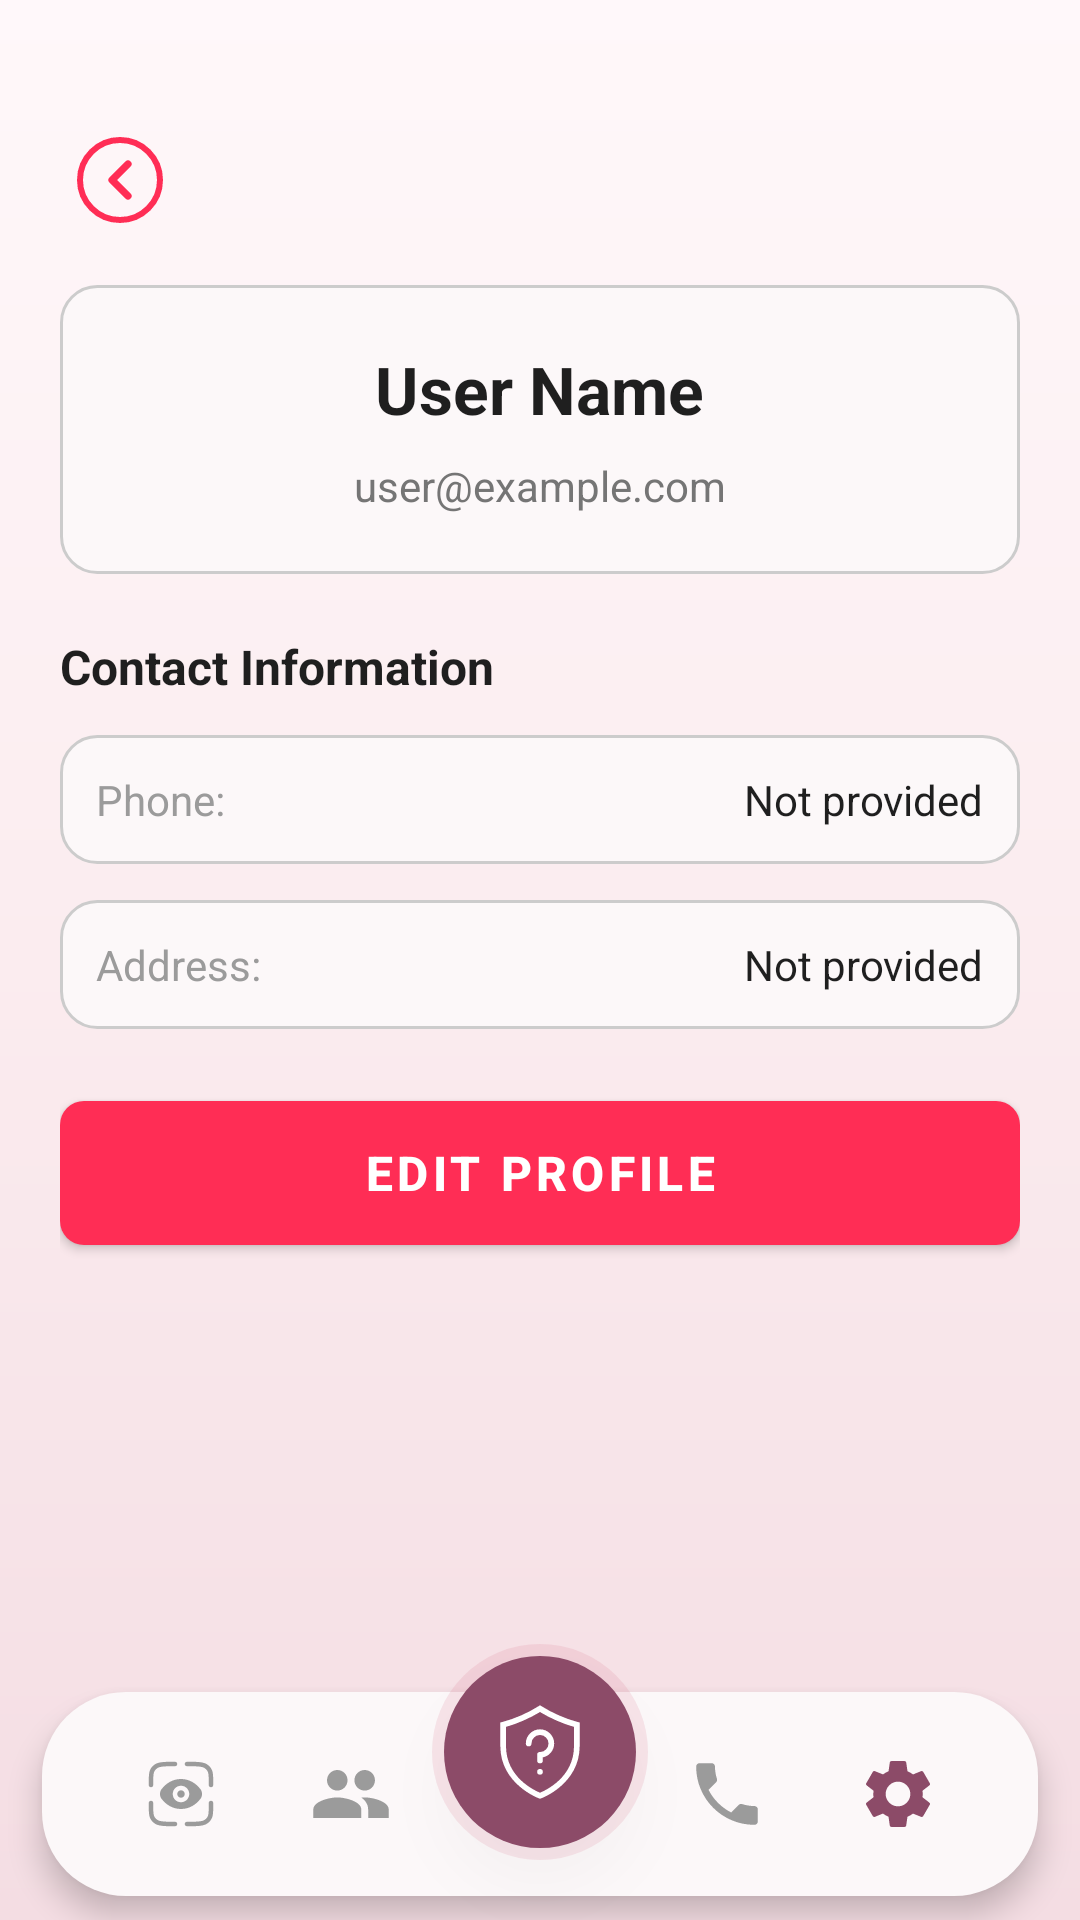

Where icons sit on this 1080x1920 app screen, as (x1, y1, x2, y2):
Back: (77, 137, 163, 223)
Call: (696, 1763, 758, 1825)
Contacts: (313, 1770, 389, 1818)
Evidence: (149, 1762, 213, 1826)
Settings: (866, 1761, 930, 1827)
